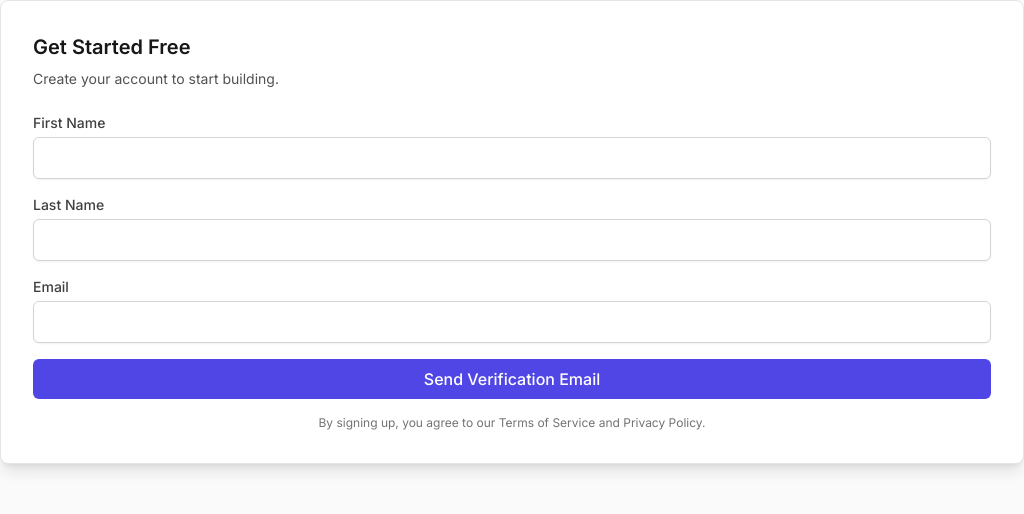
Test: RegistrationFormEmbed › Form Validation › shows error when email is empty
Step 1. Type "John" into the field labelled "First Name" → x=512, y=158, box [33,137,991,179]
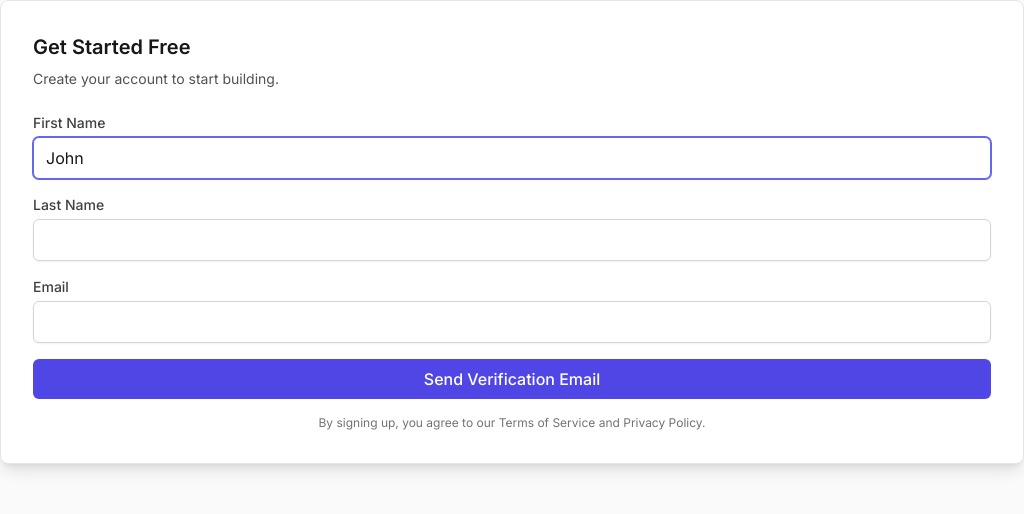
Step 2. Type "Doe" into the field labelled "Last Name" → x=512, y=240, box [33,219,991,261]
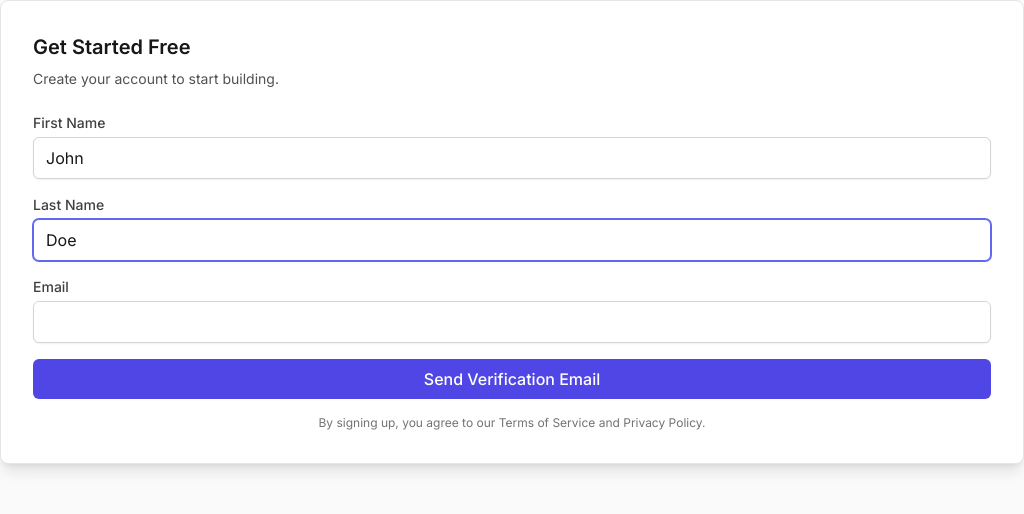
Step 3. Click the button "Send Verification Email" → x=512, y=379, box [33,359,991,399]
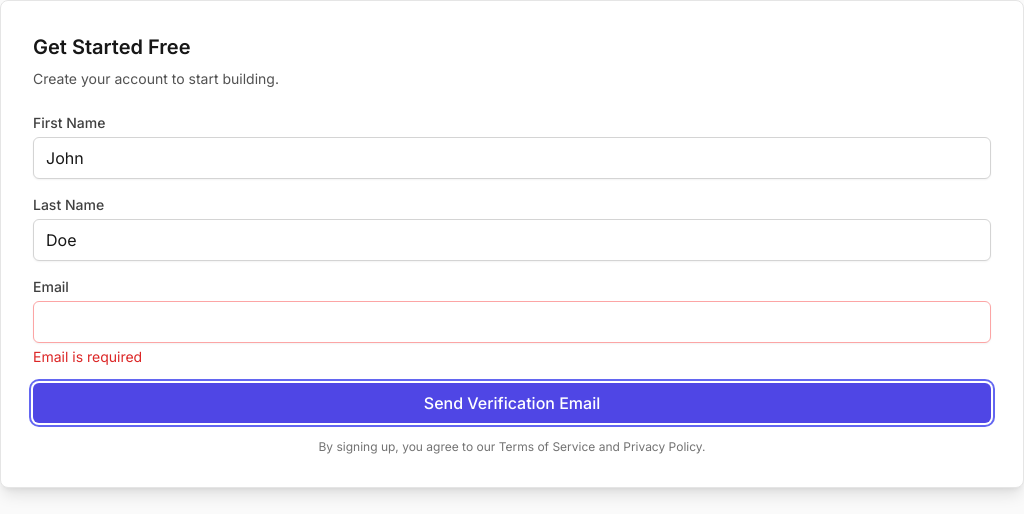
Result: the text "Email is required" is shown at [33,348,142,365]
